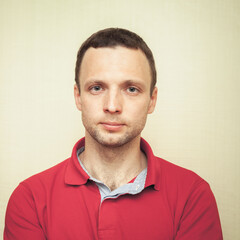young: (65, 23, 166, 146)
